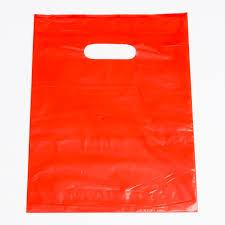Plastic bag: (27, 9, 207, 225)
